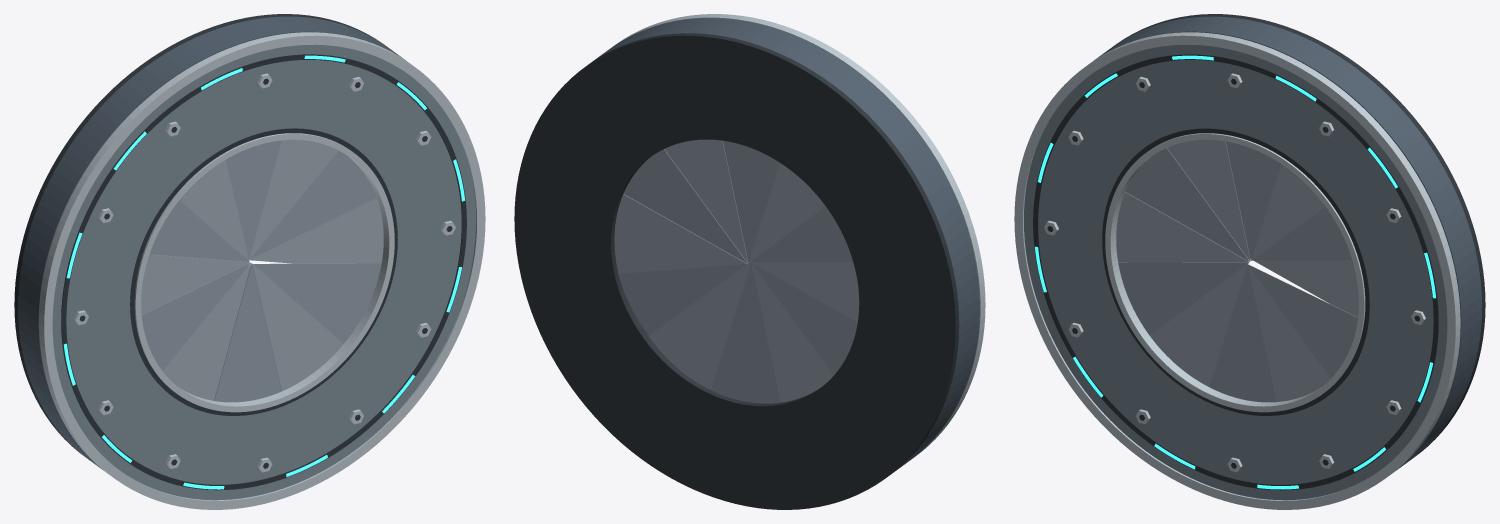
The model's file is IrisDoorController02.fbx.
3 renders of one model, left to right at view 1: azimuth 30°, elevation 25°; view 2: azimuth 150°, elevation 25°; view 3: azimuth 330°, elevation 25°, orthographic.
Visible parts, largest first — view 1: Front_Face, Outer_Steel_Edge, Outer_Housing, Aperture_Lip, Outer_Accent_Recess, Iris_Blade_12, Iris_Blade_11, Iris_Blade_10, Iris_Blade_01, Iris_Blade_02, Iris_Blade_09, Iris_Blade_08 (+7 smaller); view 2: Back_Rim, Outer_Housing, Iris_Blade_01, Iris_Blade_11, Iris_Blade_10, Iris_Blade_02, Iris_Blade_09, Iris_Blade_12, Iris_Blade_03, Outer_Steel_Edge, Iris_Blade_08, Iris_Blade_04 (+3 smaller); view 3: Front_Face, Outer_Steel_Edge, Outer_Housing, Aperture_Lip, Outer_Accent_Recess, Iris_Blade_08, Iris_Blade_09, Iris_Blade_07, Iris_Blade_10, Iris_Blade_06, Iris_Blade_12, Iris_Blade_11 (+7 smaller).
Part boxes in pixels (x1=…): Front_Face: x1=52, y1=44, x2=475, y2=500; Outer_Steel_Edge: x1=39, y1=32, x2=485, y2=509; Outer_Housing: x1=18, y1=16, x2=404, y2=470; Aperture_Lip: x1=134, y1=133, x2=394, y2=412; Outer_Accent_Recess: x1=61, y1=54, x2=466, y2=490; Iris_Blade_12: x1=253, y1=263, x2=381, y2=343; Iris_Blade_11: x1=252, y1=263, x2=343, y2=391; Iris_Blade_10: x1=214, y1=263, x2=281, y2=402; Iris_Blade_01: x1=249, y1=198, x2=383, y2=263; Iris_Blade_02: x1=250, y1=151, x2=376, y2=259; Iris_Blade_09: x1=162, y1=263, x2=251, y2=400; Iris_Blade_08: x1=141, y1=262, x2=250, y2=370; Back_Rim: x1=514, y1=33, x2=959, y2=509; Outer_Housing: x1=594, y1=18, x2=979, y2=470; Iris_Blade_01: x1=614, y1=194, x2=746, y2=273; Iris_Blade_11: x1=648, y1=262, x2=750, y2=389; Iris_Blade_10: x1=711, y1=262, x2=780, y2=403; Iris_Blade_02: x1=623, y1=149, x2=747, y2=263; Iris_Blade_09: x1=751, y1=263, x2=833, y2=402; Iris_Blade_12: x1=618, y1=261, x2=749, y2=335; Iris_Blade_03: x1=664, y1=139, x2=748, y2=262; Outer_Steel_Edge: x1=613, y1=14, x2=985, y2=456; Iris_Blade_08: x1=752, y1=263, x2=857, y2=374; Iris_Blade_04: x1=723, y1=140, x2=780, y2=262; Front_Face: x1=1024, y1=44, x2=1447, y2=500; Outer_Steel_Edge: x1=1014, y1=32, x2=1460, y2=509; Outer_Housing: x1=1095, y1=16, x2=1481, y2=470; Aperture_Lip: x1=1105, y1=133, x2=1365, y2=412; Outer_Accent_Recess: x1=1033, y1=54, x2=1438, y2=490; Iris_Blade_08: x1=1118, y1=262, x2=1248, y2=335; Iris_Blade_09: x1=1149, y1=263, x2=1248, y2=386; Iris_Blade_07: x1=1116, y1=192, x2=1249, y2=262; Iris_Blade_10: x1=1209, y1=263, x2=1276, y2=402; Iris_Blade_06: x1=1125, y1=148, x2=1249, y2=261; Iris_Blade_12: x1=1247, y1=264, x2=1357, y2=377; Iris_Blade_11: x1=1248, y1=265, x2=1330, y2=401.
Size of the model in its own units: 368 by 368 by 44.8.
